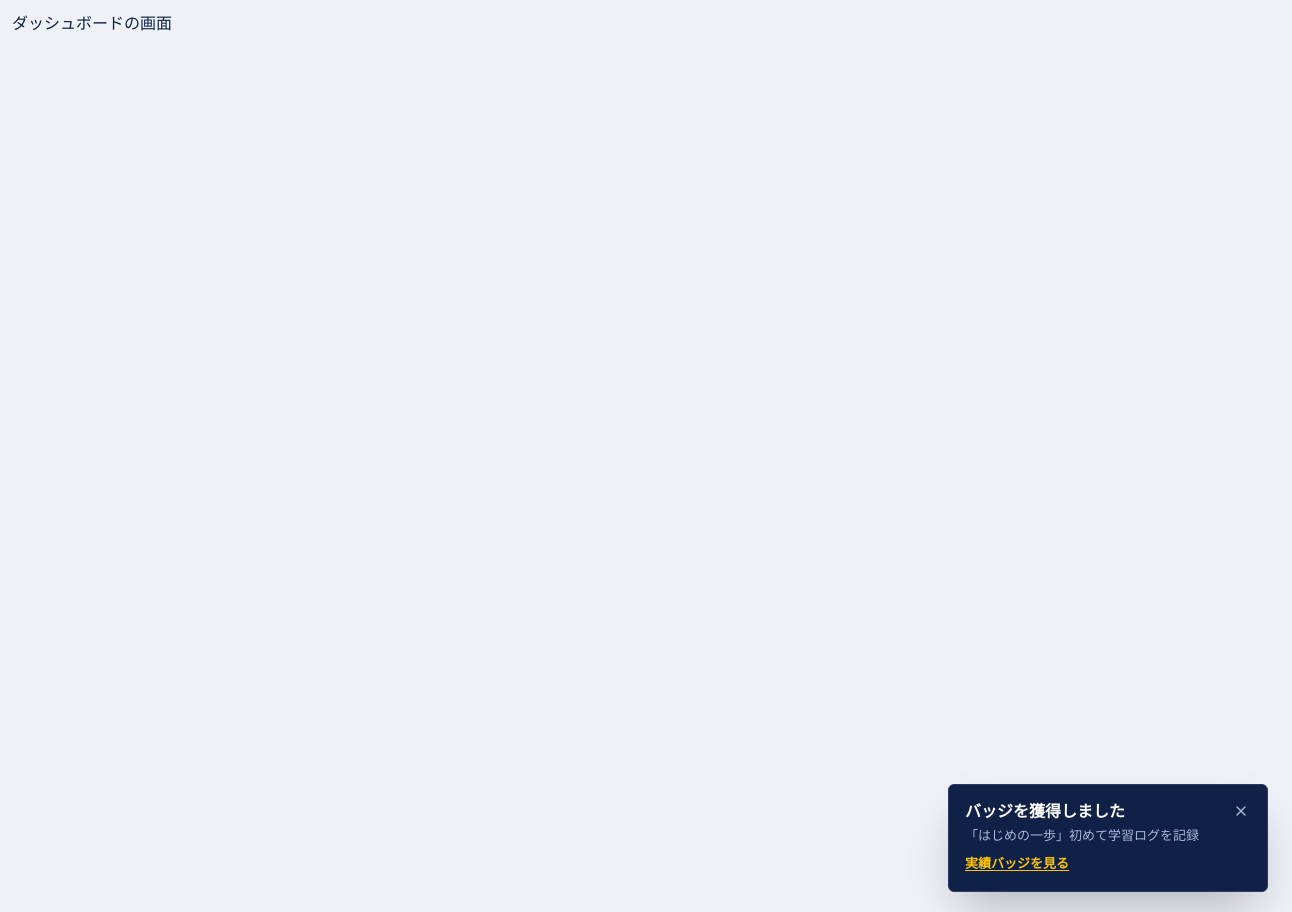
Toaster › 「通知を閉じる」で閉じる
Click the button named "通知を閉じる" at (1241,811), box 1225,795 -> 1257,827
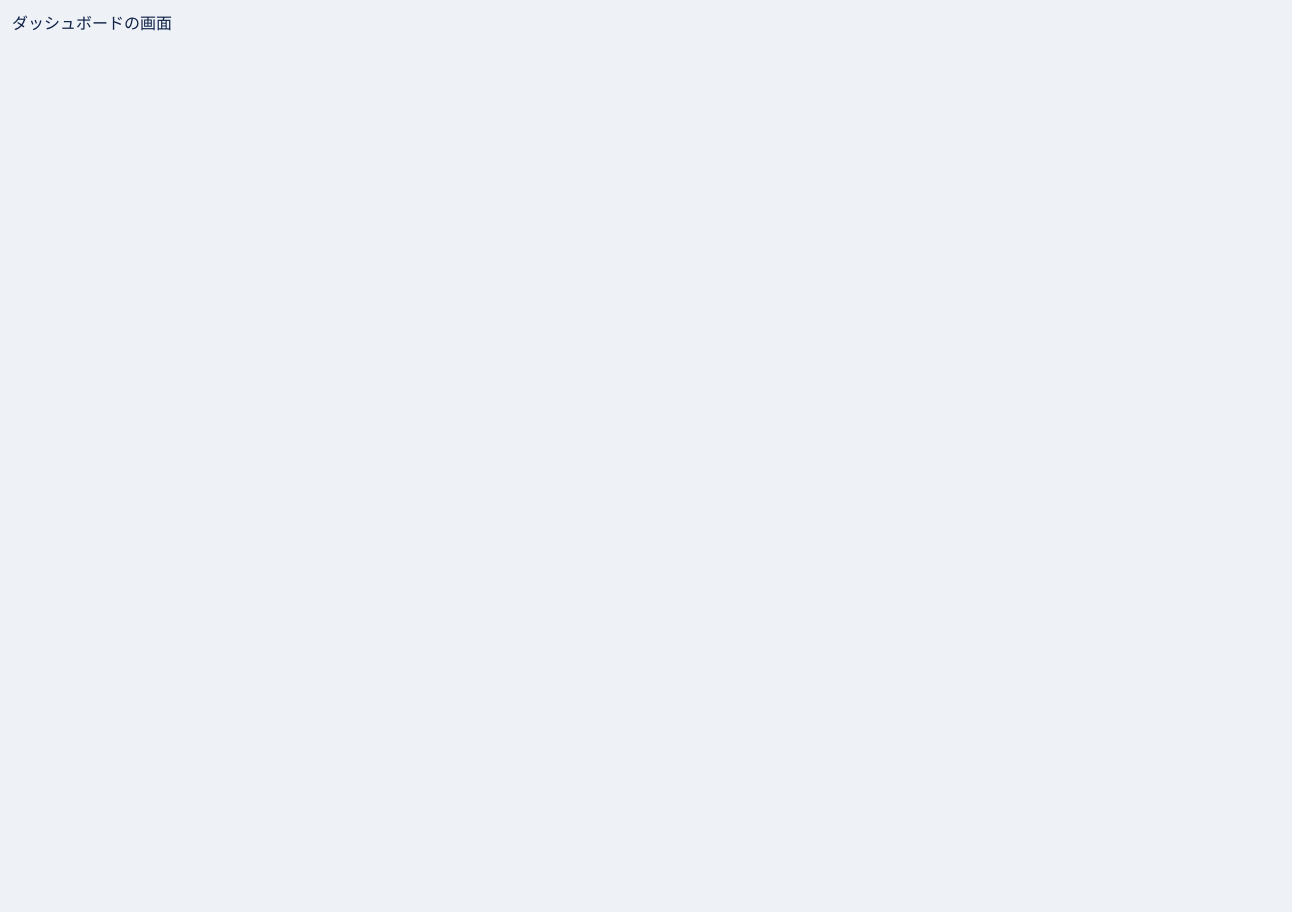
Check: the text "バッジを獲得しました" is gone
